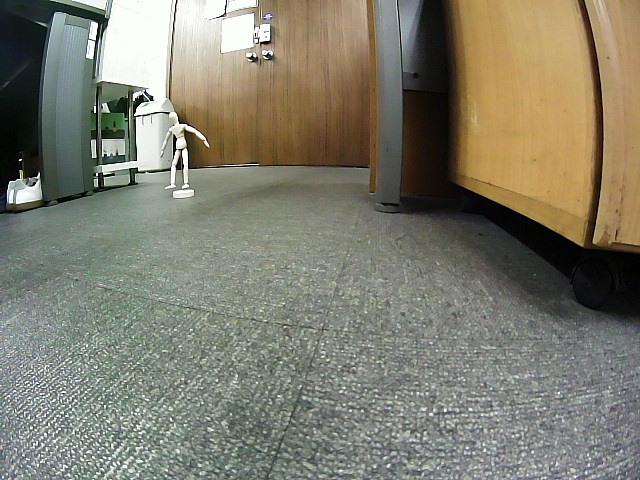person: (161, 111, 210, 189)
